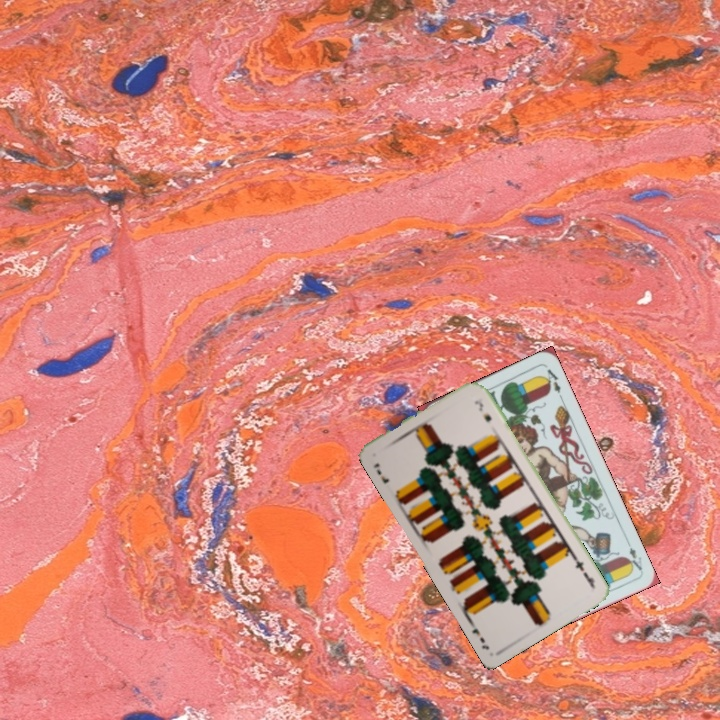E7: (570, 553, 597, 590), (369, 459, 392, 486)
EA: (622, 543, 645, 573)
